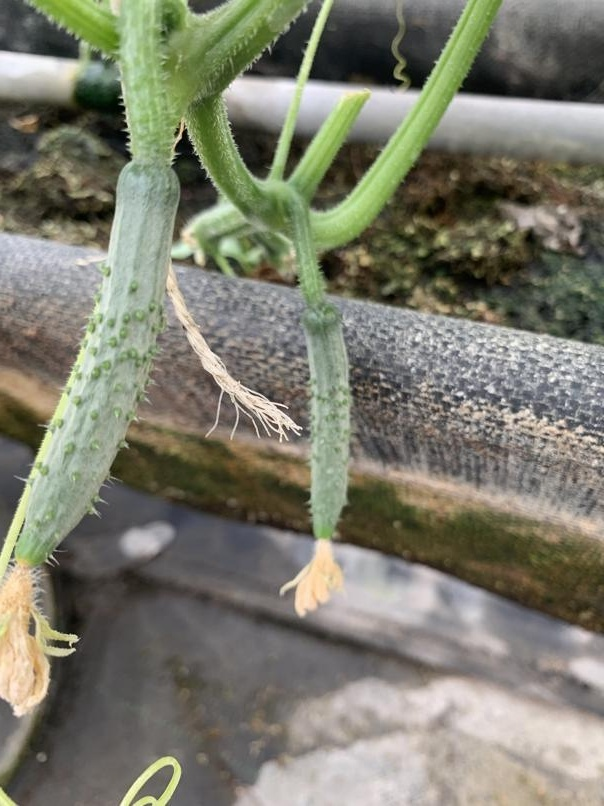bear: (278, 303, 364, 601)
bud: (0, 752, 185, 805)
growth: (0, 155, 191, 605), (0, 752, 189, 805)
